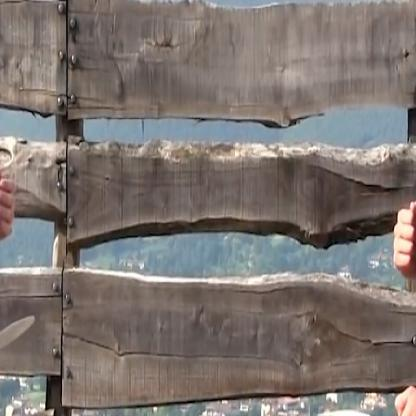knife: (0, 302, 44, 395)
